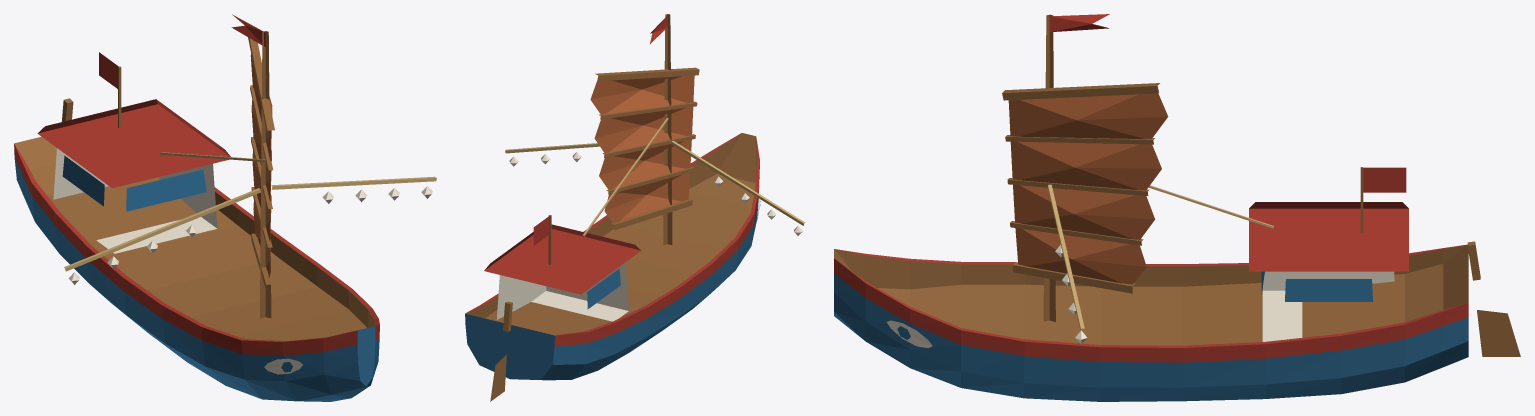
Rendered from ship_trawler.glb.
3 views of the same model, side by side, from view 1: azimuth 30°, elevation 25°; view 2: azimuth 150°, elevation 25°; view 3: azimuth 270°, elevation 25° (orthographic). The views are drawn at different scales.
Visible parts, largest first — view 1: ship_trawler; view 2: ship_trawler; view 3: ship_trawler.
Part boxes in pixels (x1=…): ship_trawler: x1=14, y1=14, x2=436, y2=401; ship_trawler: x1=465, y1=14, x2=805, y2=401; ship_trawler: x1=834, y1=14, x2=1520, y2=401.
Size of the model in its own units: 8.33 by 7.33 by 12.45.
